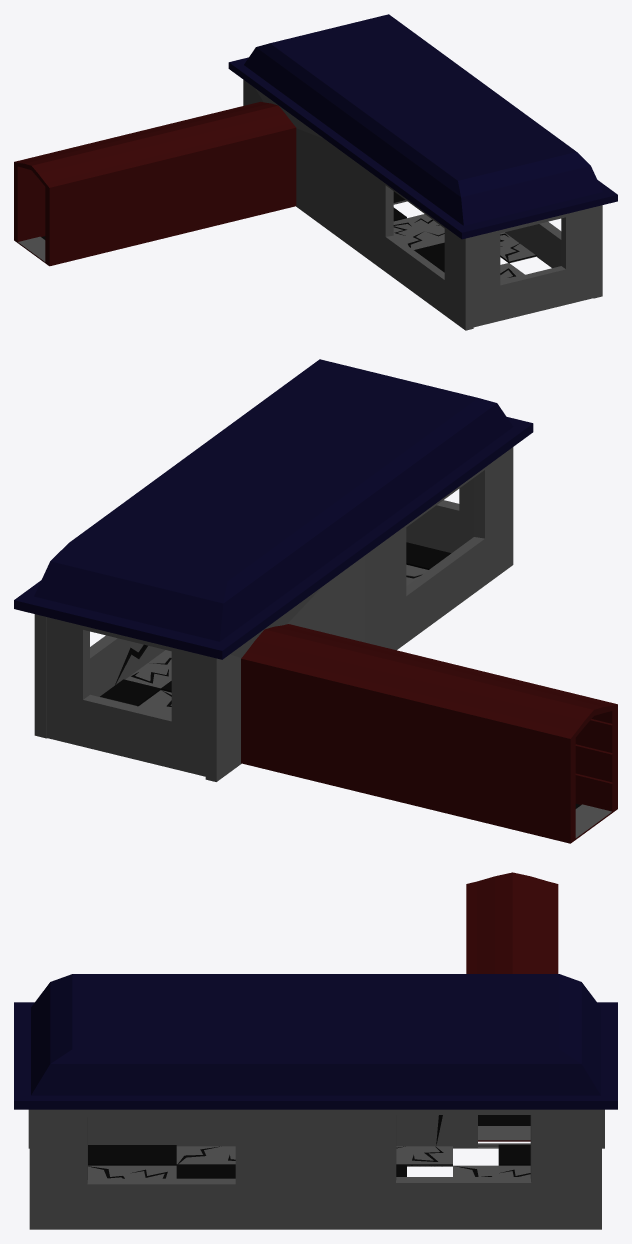
The model's file is caravana.fbx.
The picture shows the model from 3 angles, top to bottom: view 1: azimuth 30°, elevation 25°; view 2: azimuth 150°, elevation 25°; view 3: azimuth 270°, elevation 25°; orthographic projection. The views are drawn at different scales.
Visible parts, largest first — view 1: Roof, Plane.001, Front, Left, Floor.001, Back; view 2: Roof, Plane.001, Front, Right, Back, Floor.001, Left; view 3: Roof, Back, Plane.001, Floor.001, Front.
Part boxes in pixels (box(x1,y1,x2,y2)): Roof: box(228, 14, 617, 239); Plane.001: box(14, 101, 296, 266); Front: box(243, 80, 473, 330); Left: box(473, 207, 593, 327); Floor.001: box(393, 191, 536, 280); Back: box(505, 205, 602, 298); Roof: box(14, 359, 533, 659); Plane.001: box(241, 624, 617, 843); Front: box(205, 447, 513, 781); Right: box(47, 617, 205, 776); Back: box(34, 614, 164, 738); Floor.001: box(100, 542, 451, 714); Left: box(406, 478, 473, 552); Roof: box(14, 974, 617, 1109); Back: box(29, 1109, 601, 1229); Plane.001: box(466, 872, 558, 1141); Floor.001: box(88, 1144, 530, 1178); Front: box(28, 1109, 604, 1148).
Size of the model in its own units: 12416 by 4074 by 12723.
